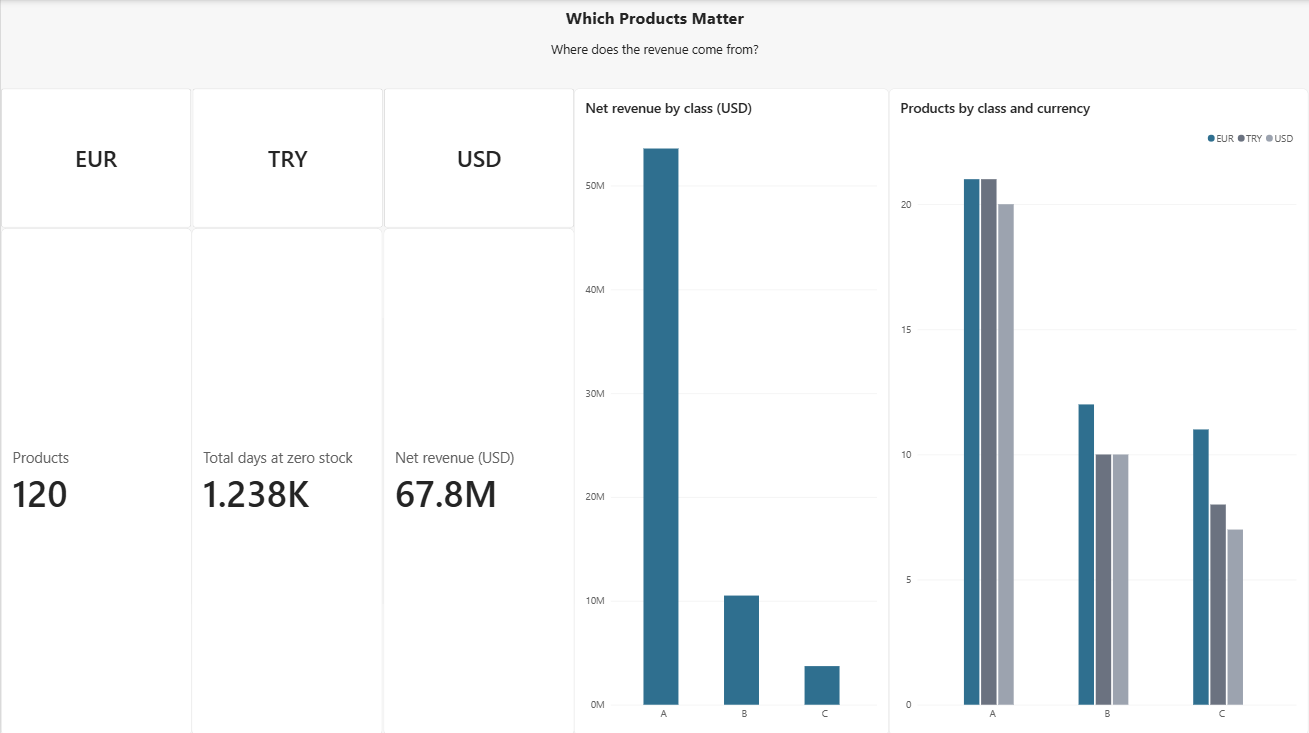

The dashboard page shown, as its layout file describes it:
{"tool":"powerbi","page":{"name":"Overview","canvas":[1920,1080],"ordinal":0},"visuals":[{"type":"cardVisual","title":"Net revenue (USD)","fields":{"Data":["Sum(abc_classes.net_revenue_usd)"]},"box":[561.3,334.5,280.6,745.5],"z":0},{"type":"cardVisual","title":"Products","fields":{"Data":["Count(abc_classes.product_id)"]},"box":[0,334.5,280.6,745.5],"z":1000},{"type":"cardVisual","title":"Total days at zero stock","fields":{"Data":["Sum(reorder_vs_stock.stockout_days)"]},"box":[280.6,334.5,280.6,745.5],"z":2000},{"type":"clusteredColumnChart","title":"Products by class and currency","fields":{"Category":["abc_classes.abc_class_within_currency"],"Series":["abc_classes.currency"],"Y":["CountNonNull(abc_classes.product_id)"]},"box":[1303.9,130.4,615.1,949.6],"z":3000},{"type":"clusteredColumnChart","title":"Net revenue by class (USD)","fields":{"Category":["abc_classes.abc_class_within_currency"],"Y":["Sum(abc_classes.net_revenue_usd)"]},"box":[841.9,130.4,462.1,949.6],"z":4000},{"type":"advancedSlicerVisual","fields":{"Values":["abc_classes.currency"]},"box":[0,130.4,841.9,204.1],"z":5000},{"type":"textbox","box":[0,8.5,1919.1,102],"z":6000}]}

Visuals, with their boxes in screenshot pixels (x1, y1, x2, y2), scaled from the page's 1920x1080 canvas onto the 1309x733 screenshot:
"Net revenue (USD)" cardVisual: crop(383, 227, 574, 732)
"Products" cardVisual: crop(0, 227, 191, 732)
"Total days at zero stock" cardVisual: crop(191, 227, 383, 732)
"Products by class and currency" clusteredColumnChart: crop(889, 89, 1308, 732)
"Net revenue by class (USD)" clusteredColumnChart: crop(574, 89, 889, 732)
advancedSlicerVisual - abc_classes.currency: crop(0, 89, 574, 227)
textbox: crop(0, 6, 1308, 75)
